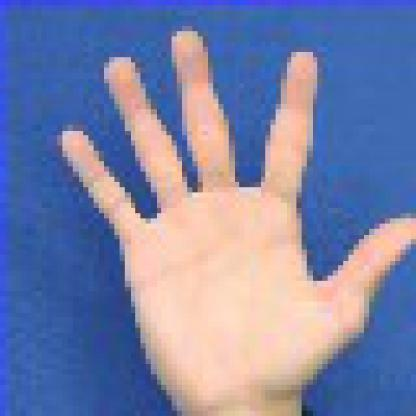five: (41, 15, 410, 410)
